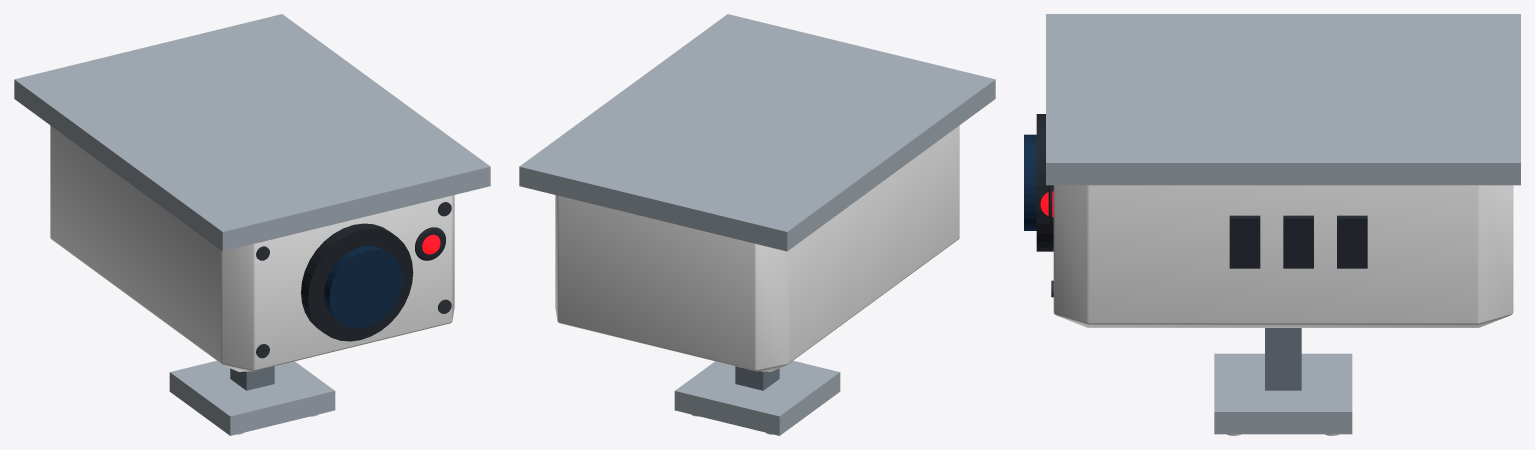
The model's file is Security_Surveillance_Camera.fbx.
3 views of the same model, side by side, from view 1: azimuth 30°, elevation 25°; view 2: azimuth 150°, elevation 25°; view 3: azimuth 270°, elevation 25° (orthographic). The views are drawn at different scales.
Parts seen in each view (by area): view 1: camera_top_cover, main_body, camera_wall_mount, camera_lens_outer, camera_lens_glass, camera_support_arm, security_indicator_ring; view 2: camera_top_cover, main_body, camera_wall_mount, camera_support_arm; view 3: camera_top_cover, main_body, camera_wall_mount, camera_support_arm, vent_bar_03, vent_bar_01, vent_bar_02, camera_lens_outer, camera_lens_glass.
Part boxes in pixels (x1,y1,x2,y2): camera_top_cover: (14, 14, 490, 251); main_body: (50, 125, 454, 371); camera_wall_mount: (169, 360, 335, 435); camera_lens_outer: (301, 223, 413, 341); camera_lens_glass: (324, 246, 402, 328); camera_support_arm: (230, 366, 274, 390); security_indicator_ring: (415, 227, 445, 260); camera_top_cover: (519, 14, 995, 251); main_body: (555, 125, 959, 371); camera_wall_mount: (674, 360, 840, 435); camera_support_arm: (735, 366, 779, 390); camera_top_cover: (1046, 14, 1520, 185); main_body: (1053, 185, 1513, 327); camera_wall_mount: (1214, 353, 1352, 434); camera_support_arm: (1265, 328, 1301, 390); vent_bar_03: (1229, 215, 1260, 268); vent_bar_01: (1337, 215, 1367, 268); vent_bar_02: (1283, 215, 1313, 268); camera_lens_outer: (1036, 114, 1053, 251); camera_lens_glass: (1024, 134, 1036, 230).
Size of the model in its own units: 230 by 233 by 324.
